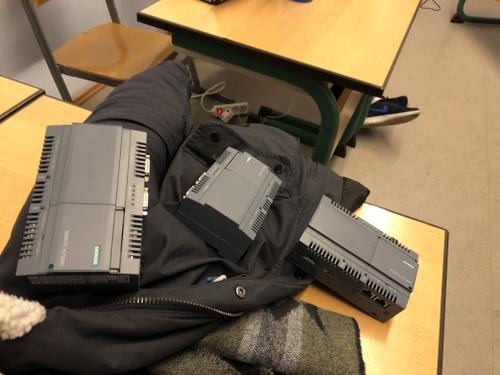device: (16, 123, 151, 293), (285, 195, 420, 324), (174, 147, 283, 265)
